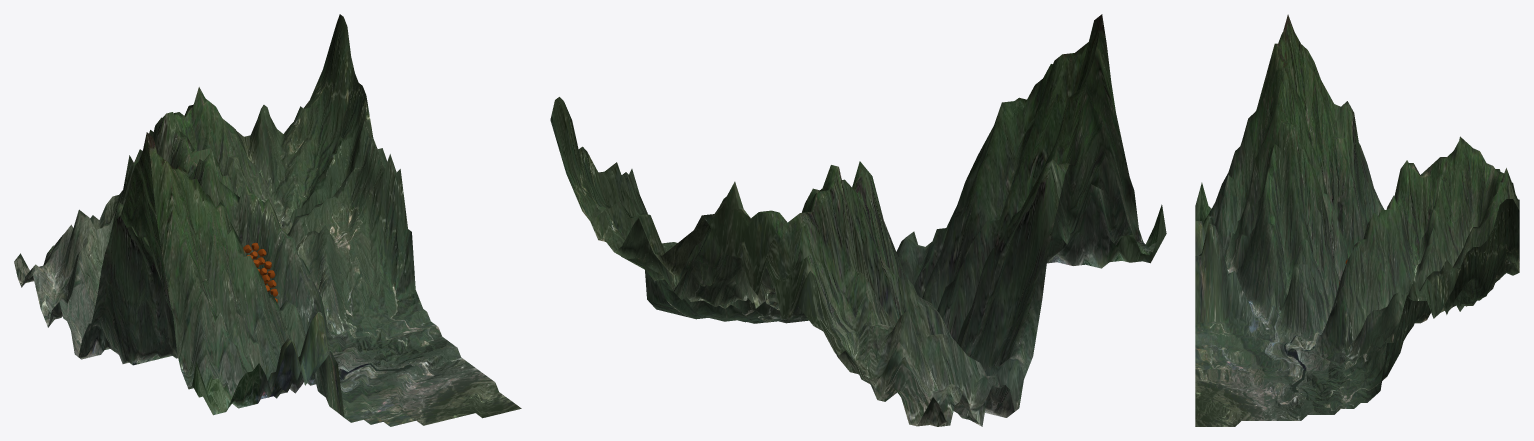
File: mountain_all.obj
The picture shows the model from 3 angles, left to right: view 1: azimuth 30°, elevation 25°; view 2: azimuth 150°, elevation 25°; view 3: azimuth 270°, elevation 25°; orthographic projection. The views are drawn at different scales.
Visible parts, largest first — view 1: default; view 2: default; view 3: default.
Boxes of the visible parts, left/top/right/bottom form: default: left=14, top=14, right=521, bottom=426; default: left=550, top=14, right=1166, bottom=426; default: left=1195, top=14, right=1519, bottom=426.
Bounding box in the file's own units: 49 × 46 × 49.
